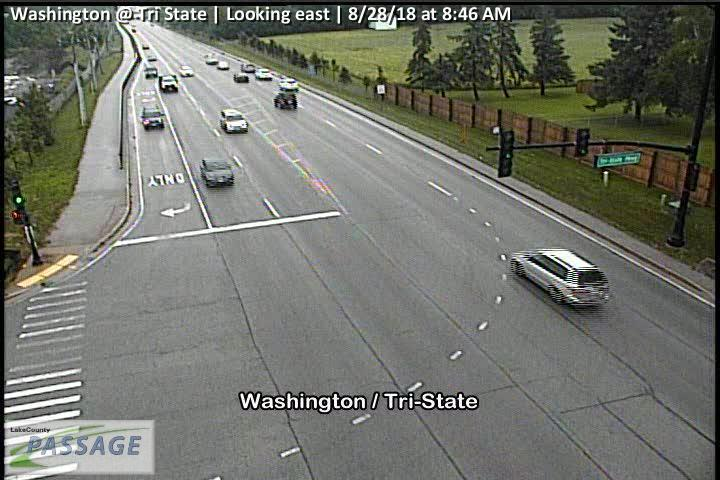SUV: (511, 248, 609, 308), (219, 109, 248, 134), (142, 105, 165, 130), (274, 90, 297, 108), (158, 74, 178, 93), (278, 78, 298, 90), (144, 62, 158, 78)
Sedan: (200, 158, 233, 186), (254, 66, 273, 80), (176, 64, 194, 76), (232, 72, 249, 83)
